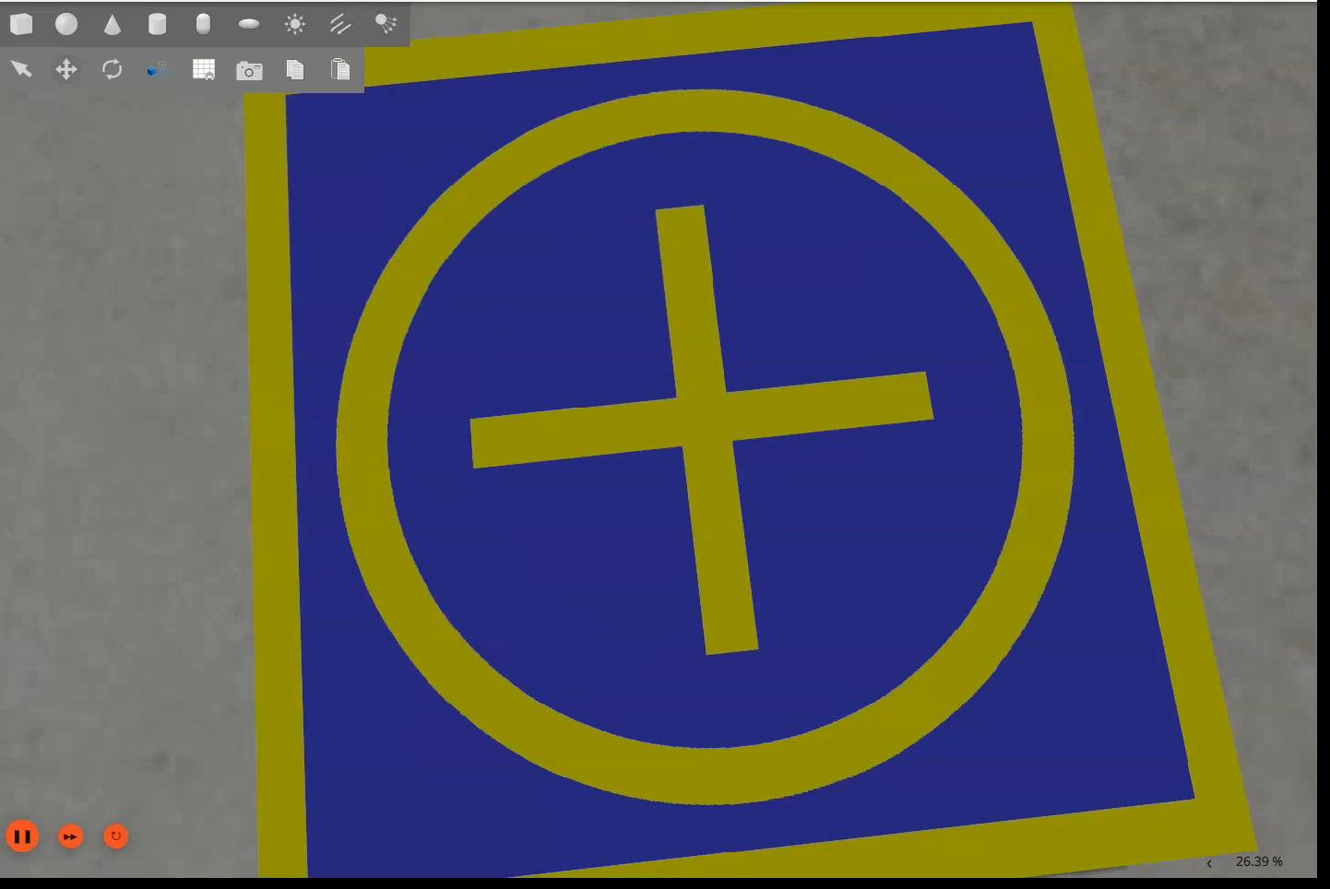small_base: (248, 1, 1263, 881)
